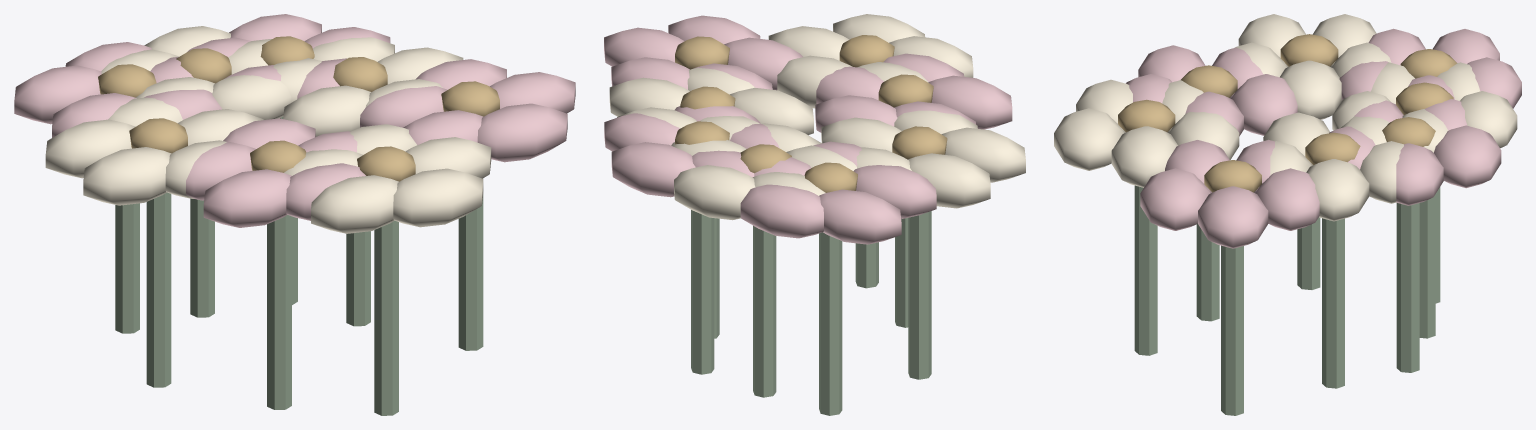
Rendered from villa-flowers.glb.
3 views of the same model, side by side, from view 1: azimuth 30°, elevation 25°; view 2: azimuth 150°, elevation 25°; view 3: azimuth 270°, elevation 25° (orthographic). The views are drawn at different scales.
Parts seen in each view (by area): view 1: stem; view 2: stem; view 3: stem.
Boxes of the visible parts, bbox=[...] form: stem: bbox=[14, 14, 575, 415]; stem: bbox=[604, 14, 1025, 415]; stem: bbox=[1054, 14, 1521, 415].
Size of the model in its own units: 0.7676 by 0.405 by 0.6966.
